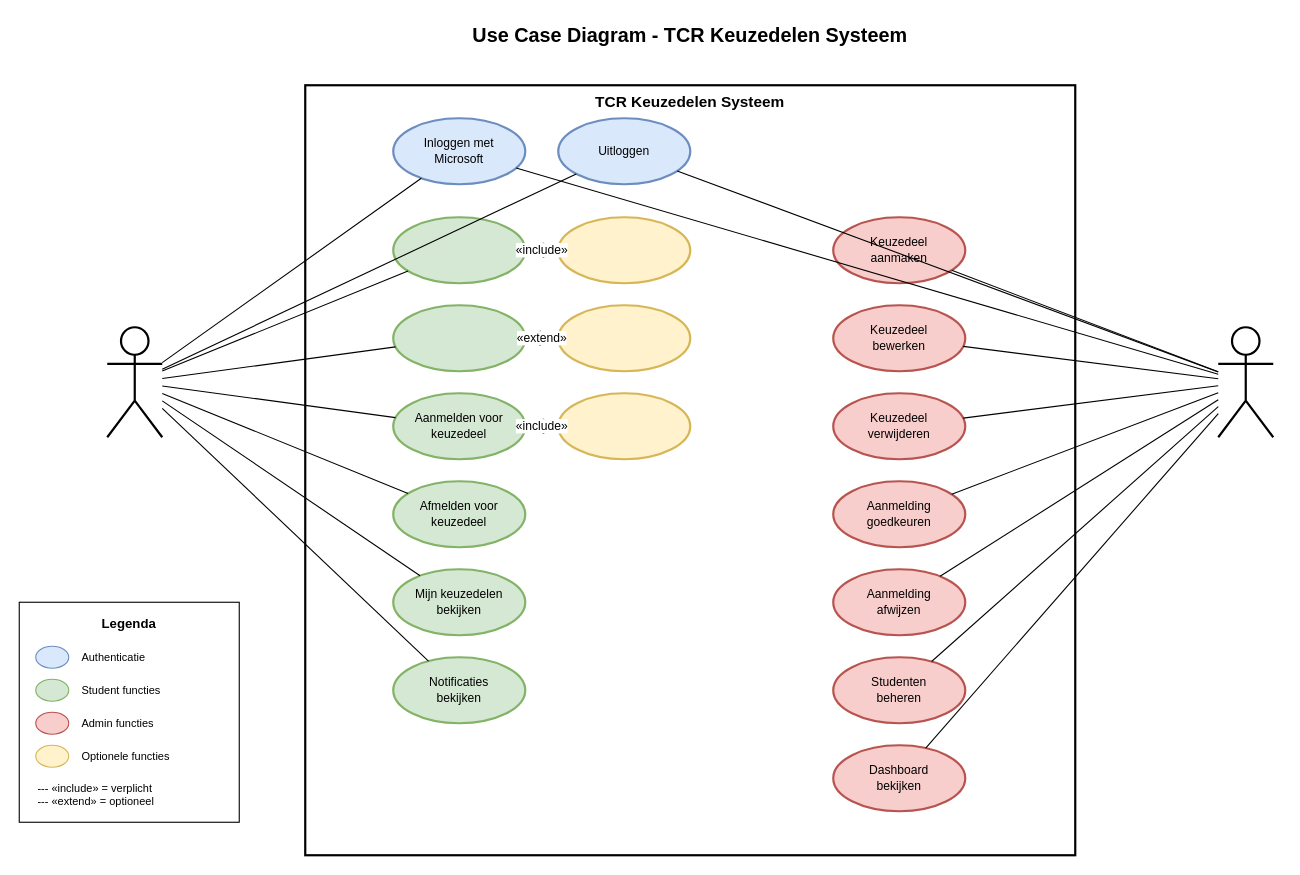
This 1300x875 diagram has some shape labels left out. Each missing label, with the centre of its shape:
"2e keuze selecteren" belongs at [624,426].
"Admin/SLB" belongs at [1245,382].
"Alternatieven bekijken" belongs at [624,338].
"Filteren op periode" belongs at [624,250].
"Keuzedeel details bekijken" belongs at [459,338].
"Keuzedelen bekijken" belongs at [459,250].
"Student" belongs at [134,382].
